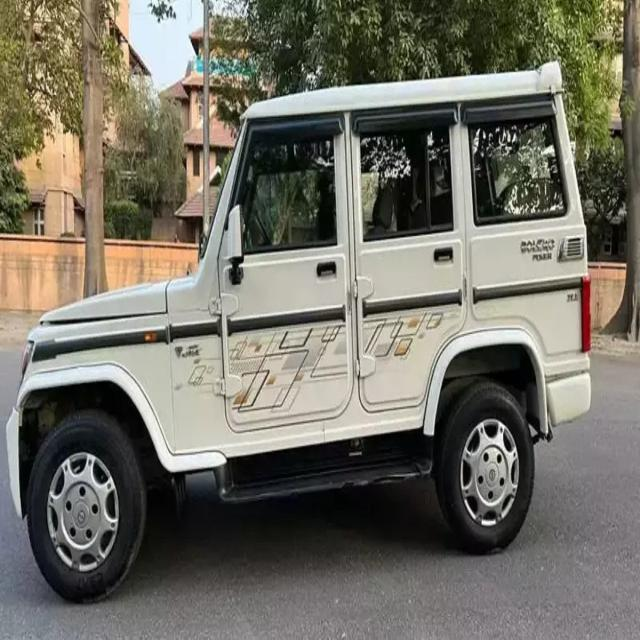light_vehicle: (8, 73, 594, 584)
